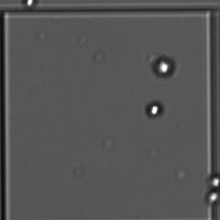Living Cell: (148, 52, 179, 80), (142, 99, 165, 121), (18, 1, 41, 13)
